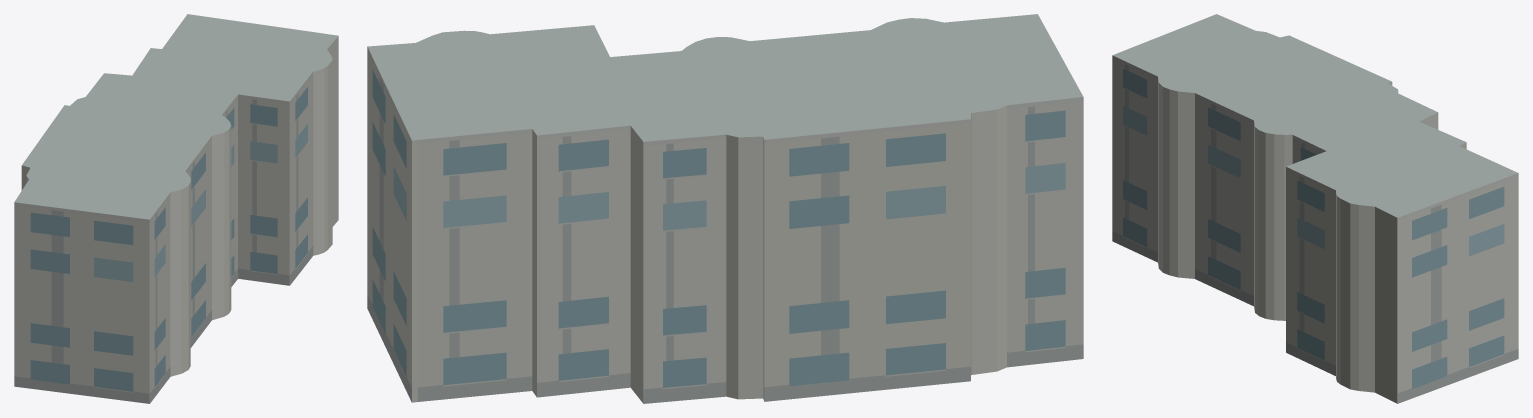
Rendered from survey-upis-32798639.glb.
3 renders of one model, left to right at view 1: azimuth 30°, elevation 25°; view 2: azimuth 150°, elevation 25°; view 3: azimuth 270°, elevation 25°, orthographic. The views are drawn at different scales.
Visible parts, largest first — view 1: survey-upis-32798639.tmp; view 2: survey-upis-32798639.tmp; view 3: survey-upis-32798639.tmp.
Boxes of the visible parts, x1,y1,x2,y2 form: survey-upis-32798639.tmp: [14, 14, 338, 403]; survey-upis-32798639.tmp: [367, 14, 1083, 403]; survey-upis-32798639.tmp: [1112, 14, 1518, 403].
Size of the model in its own units: 35.87 by 15.25 by 30.2.
